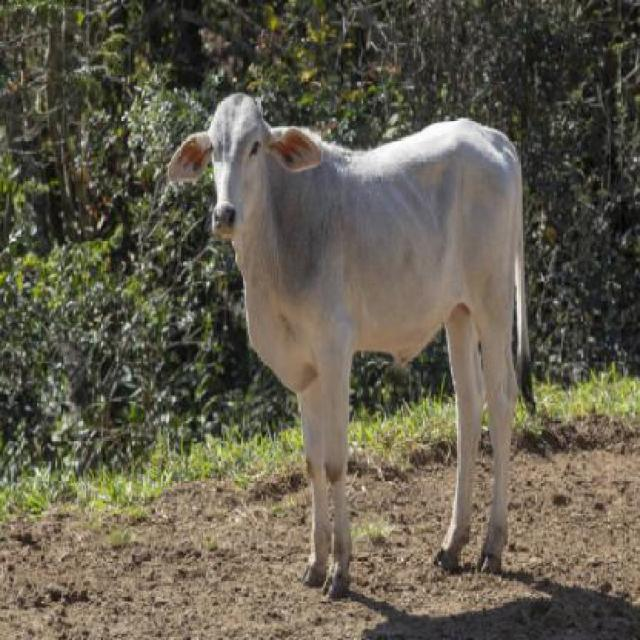Cow: (170, 90, 532, 598)
